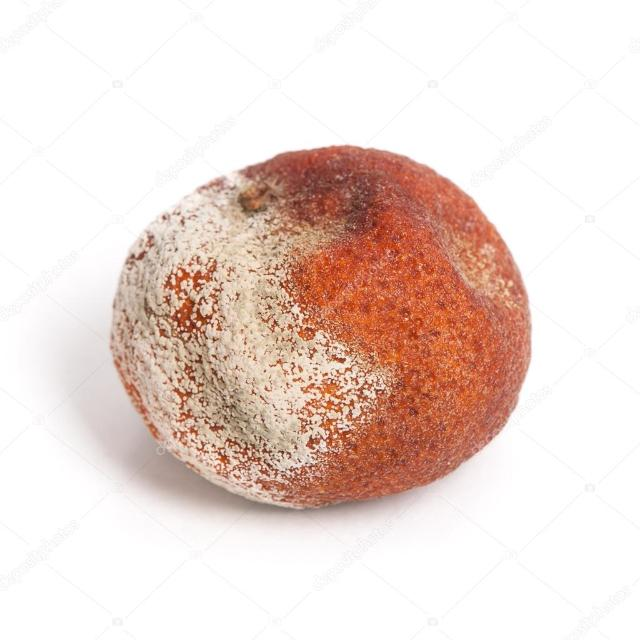organic: (108, 145, 533, 512)
